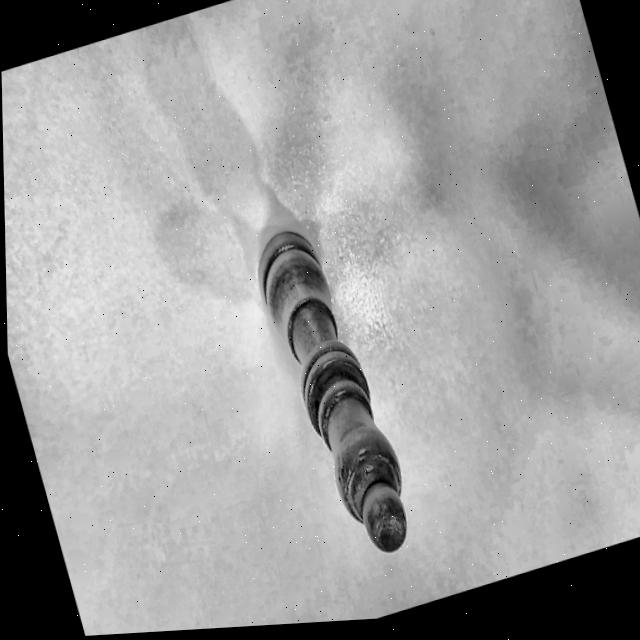black-queen: (226, 189, 437, 597)
